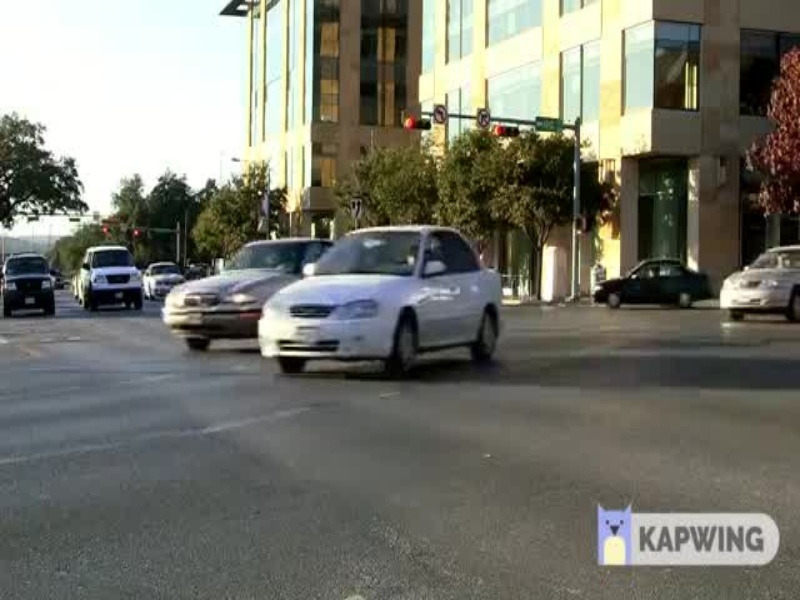car: (259, 224, 514, 366), (166, 232, 291, 355), (585, 249, 717, 314), (721, 243, 800, 324)
suv: (75, 237, 153, 314), (1, 249, 60, 322)
